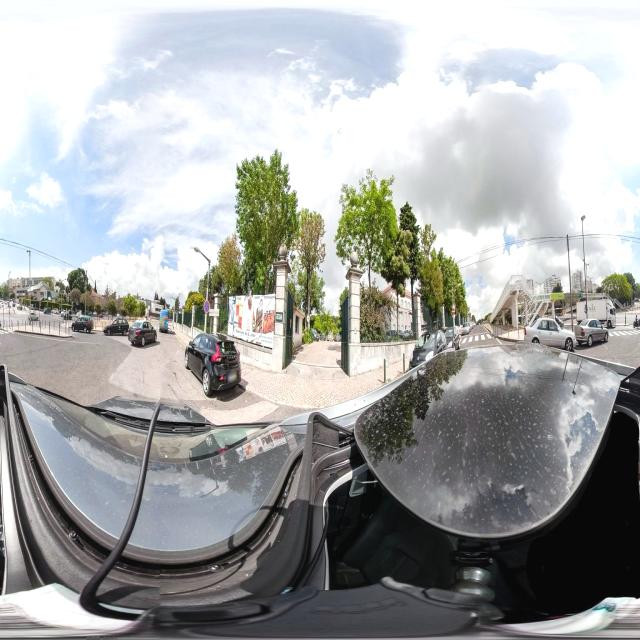car: (184, 331, 242, 397), (525, 317, 576, 351), (576, 317, 608, 347), (128, 318, 156, 347), (103, 316, 129, 336), (71, 312, 93, 332)
